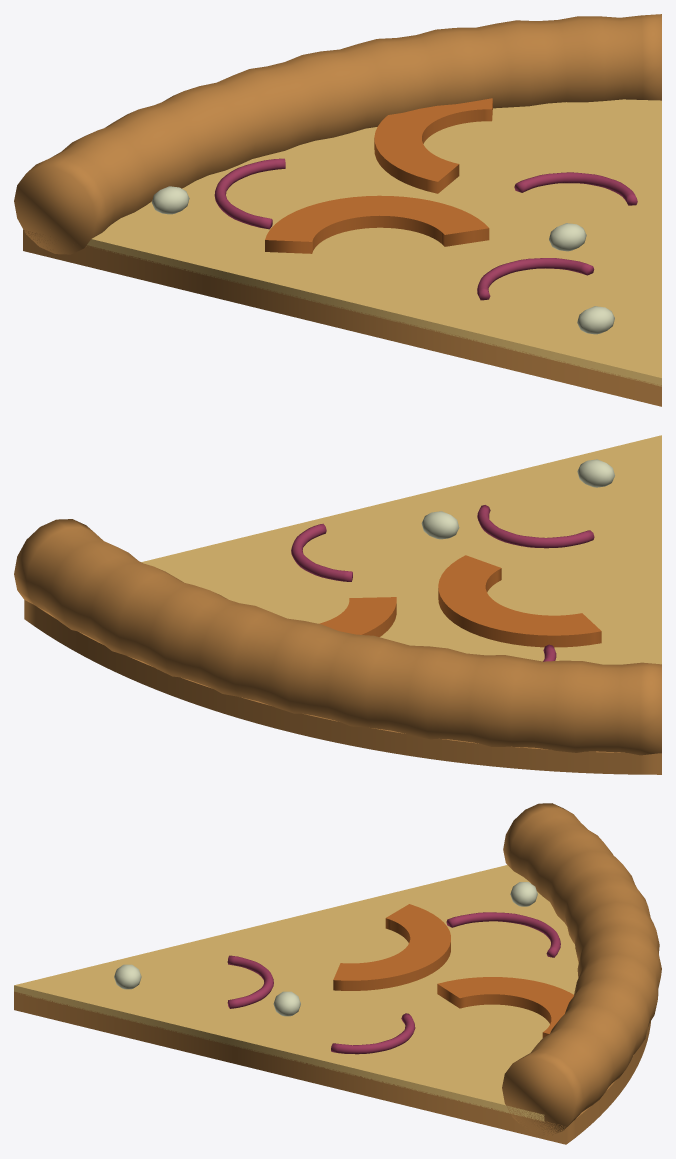
3 views of the same model, one above another, from view 1: azimuth 30°, elevation 25°; view 2: azimuth 150°, elevation 25°; view 3: azimuth 270°, elevation 25° (orthographic). The views are drawn at different scales.
Parts seen in each view (by area): view 1: Melted cheese wedge, Raised outer baked crust, Thin triangular pizza dough, Roasted squash arc 0, Roasted squash arc 1, Curved red onion 1, Curved red onion 0, Curved red onion 2, Irregular blue cheese chunk 1, Irregular blue cheese chunk 0, Irregular blue cheese chunk 2; view 2: Raised outer baked crust, Melted cheese wedge, Thin triangular pizza dough, Roasted squash arc 0, Roasted squash arc 1, Curved red onion 0, Curved red onion 2, Irregular blue cheese chunk 2, Irregular blue cheese chunk 0; view 3: Melted cheese wedge, Raised outer baked crust, Thin triangular pizza dough, Roasted squash arc 0, Roasted squash arc 1, Curved red onion 1, Curved red onion 0, Curved red onion 2, Irregular blue cheese chunk 2, Irregular blue cheese chunk 0, Irregular blue cheese chunk 1.
Part boxes in pixels (x1,y1,x2,y2): Melted cheese wedge: (86,99,661,386); Raised outer baked crust: (14,14,661,254); Thin triangular pizza dough: (23,229,661,406); Roasted squash arc 0: (265,195,489,253); Roasted squash arc 1: (374,98,492,193); Curved red onion 1: (214,158,285,229); Curved red onion 0: (477,258,594,300); Curved red onion 2: (514,172,637,205); Irregular blue cheese chunk 1: (151,186,189,214); Irregular blue cheese chunk 0: (549,223,586,251); Irregular blue cheese chunk 2: (577,306,614,334); Raised outer baked crust: (14,519,661,755); Melted cheese wedge: (141,435,661,664); Thin triangular pizza dough: (24,600,661,774); Roasted squash arc 0: (438,555,601,647); Roasted squash arc 1: (319,597,396,636); Curved red onion 0: (477,505,594,548); Curved red onion 2: (291,523,352,581); Irregular blue cheese chunk 2: (577,459,614,487); Irregular blue cheese chunk 0: (421,511,459,539); Melted cheese wedge: (14,865,578,1121); Raised outer baked crust: (502,803,661,1135); Thin triangular pizza dough: (14,991,650,1144); Roasted squash arc 0: (333,904,450,990); Roasted squash arc 1: (437,977,573,1037); Curved red onion 1: (446,912,560,957); Curved red onion 0: (227,955,273,1008); Curved red onion 2: (331,1013,415,1054); Irregular blue cheese chunk 2: (114,964,141,989); Irregular blue cheese chunk 0: (273,991,300,1016); Irregular blue cheese chunk 1: (510,882,537,906).
Bounding box in the file's own units: 0.1421 × 0.0193 × 0.1423.
